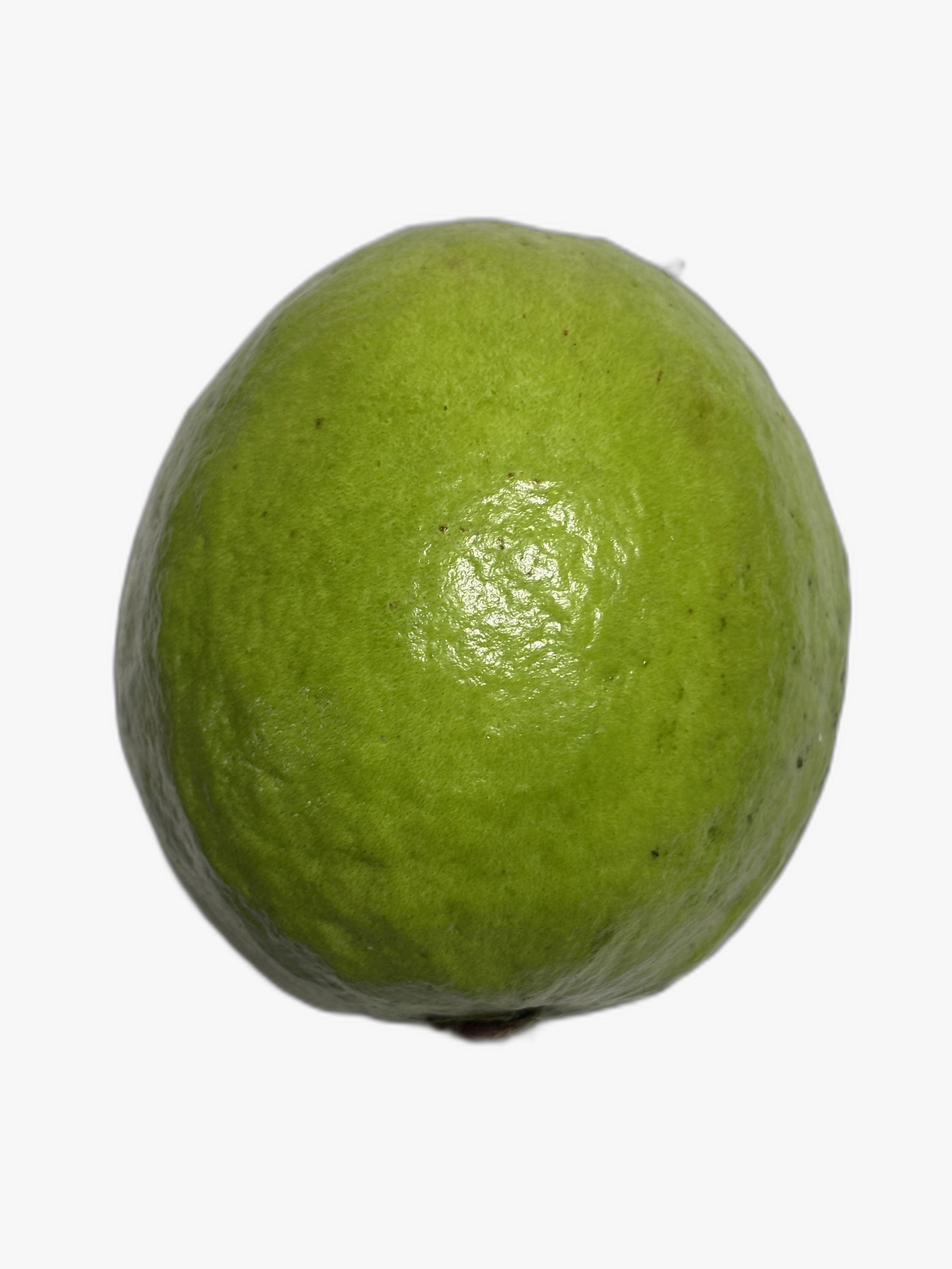guava: (103, 170, 928, 1237)
